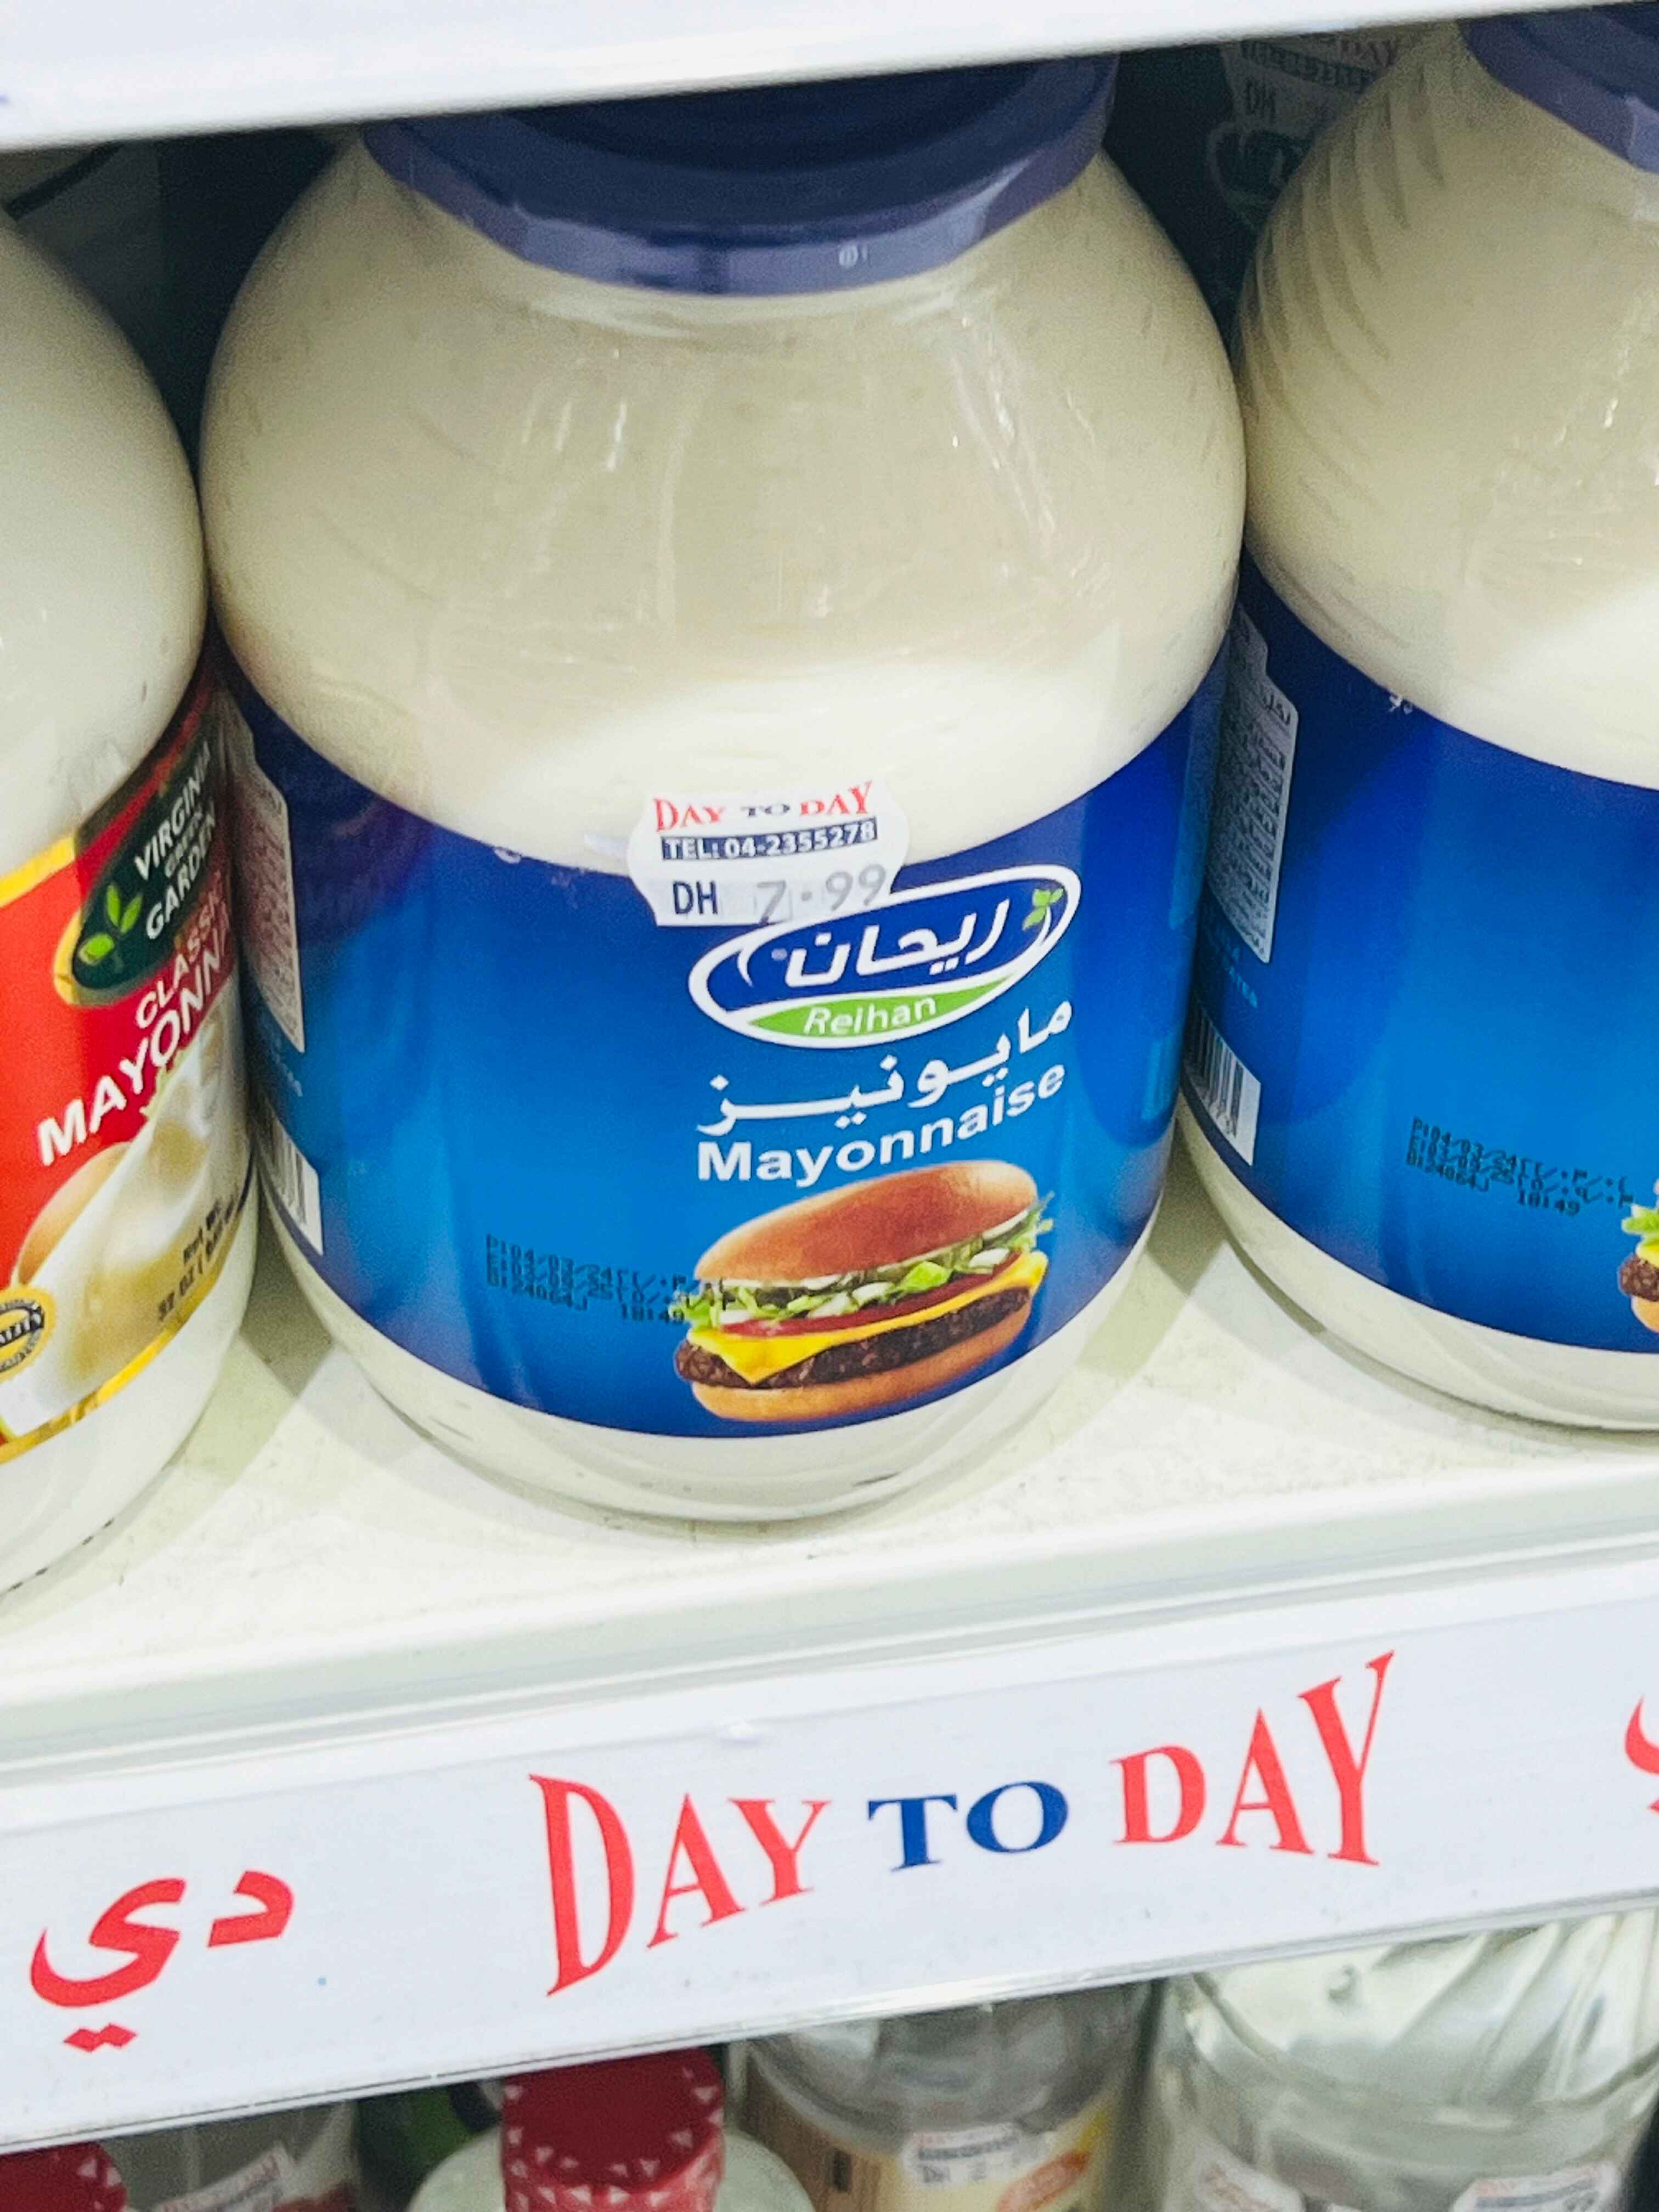PriceTagSmall: (633, 780, 913, 939)
